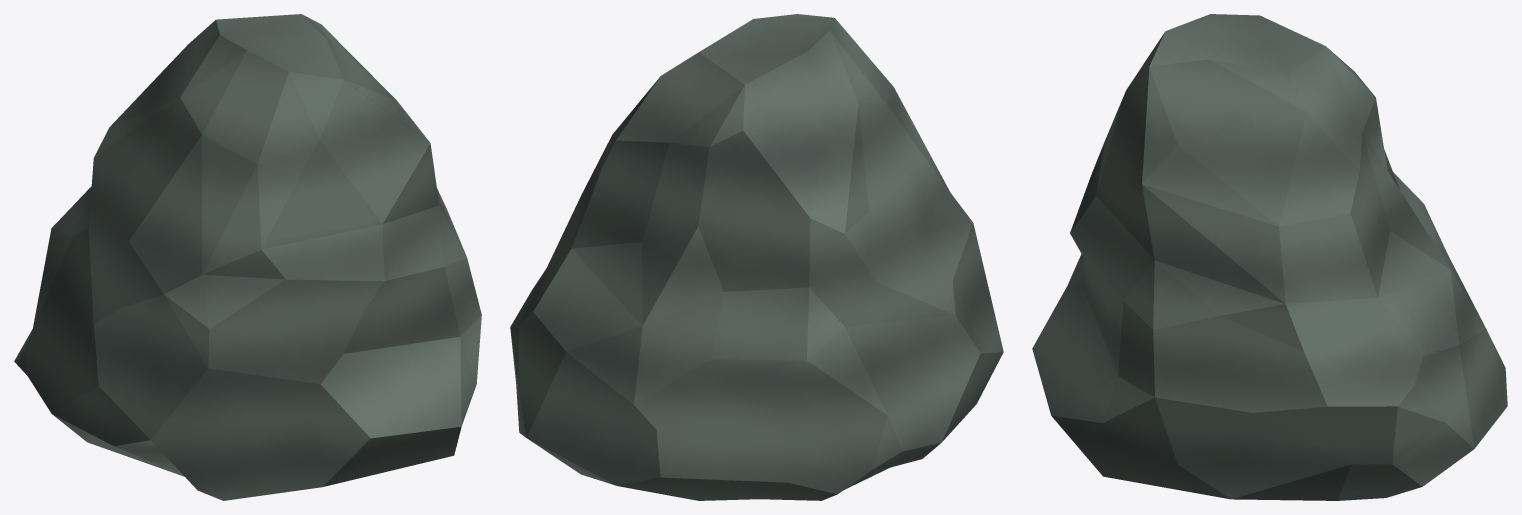
File: rock 5.fbx
The picture shows the model from 3 angles, left to right: view 1: azimuth 30°, elevation 25°; view 2: azimuth 150°, elevation 25°; view 3: azimuth 270°, elevation 25°; orthographic projection. The views are drawn at different scales.
Parts seen in each view (by area): view 1: Rock 5 EXP; view 2: Rock 5 EXP; view 3: Rock 5 EXP.
Boxes of the visible parts, x1,y1,x2,y2 form: Rock 5 EXP: (14,14,481,500); Rock 5 EXP: (510,14,1003,500); Rock 5 EXP: (1032,14,1507,500).
Bounding box in the file's own units: 225 × 220 × 237.
Materials: 1 (1 with a texture image).
